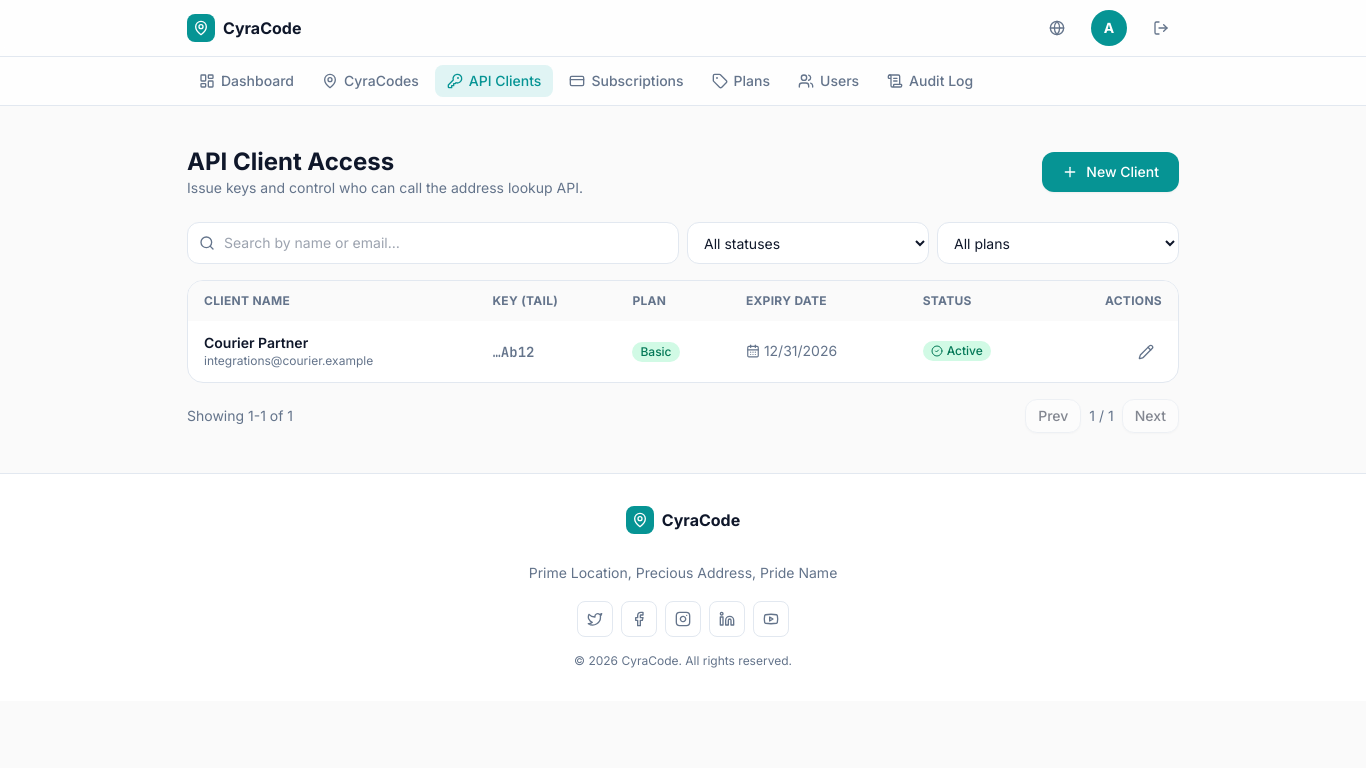
Test: AdminClients › opens the create form inline on the page, not as a dialog
expect the text "Courier Partner" is shown: met, box [204,334,308,351]
Step 1. Click the button "New Client" → (1111, 172), box [1042,152,1179,192]
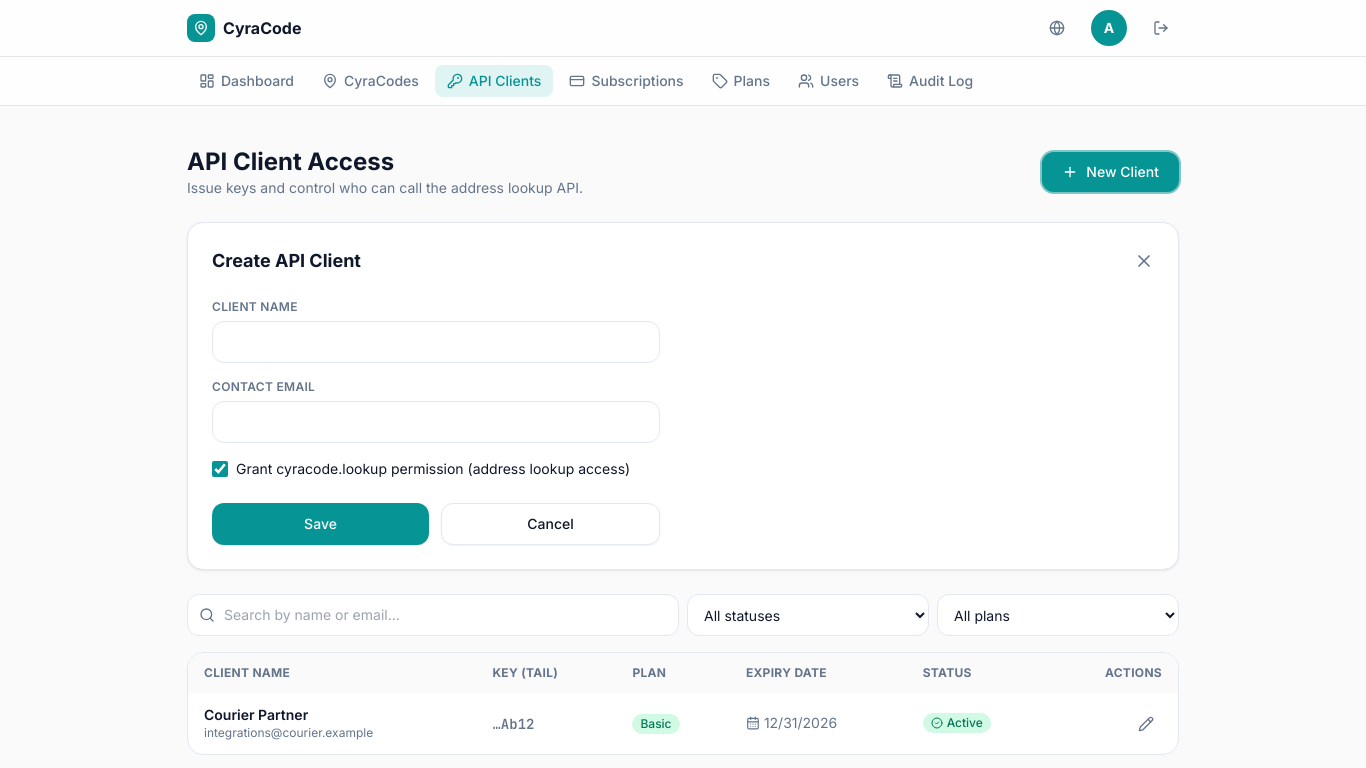
expect the search field is shown: met, box [187,594,679,636]
expect the element "Create API Client" is shown: met, box [187,222,1179,570]
expect the field labelled "Client name" is shown: met, box [212,321,660,363]
